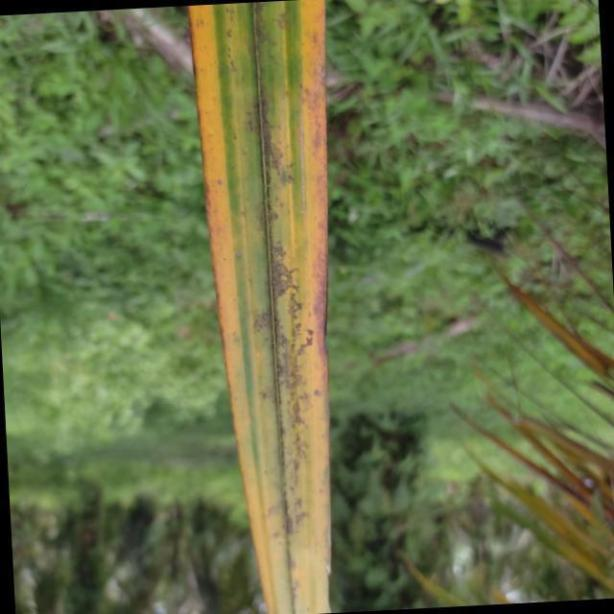Megnesium: (191, 0, 338, 614)
